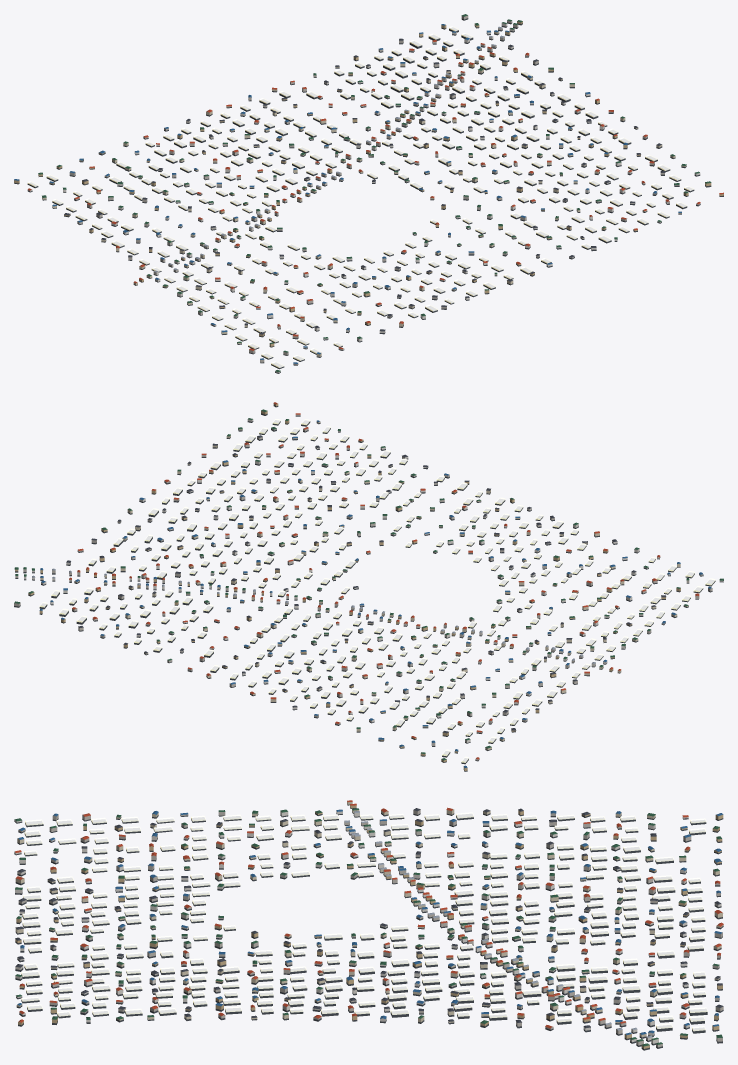
File: buildings_T_W02_N06.glb
3 renders of one model, top to bottom at view 1: azimuth 30°, elevation 25°; view 2: azimuth 150°, elevation 25°; view 3: azimuth 270°, elevation 25°, orthographic. The views are drawn at different scales.
Parts seen in each view (by area): view 1: T_W02_N06_slope_seating_foundations, T_W02_N06_roofs_agri_greenhouse_arch, T_W02_N06_walls_wall_dalat_cream_stucco, T_W02_N06_walls_wall_pastel_sand_gray, T_W02_N06_walls_wall_modern_warm_white, T_W02_N06_walls_wall_french_ochre_villa, T_W02_N06_roofs_roof_pine_green_hip, T_W02_N06_roofs_roof_terracotta_gable, T_W02_N06_roofs_roof_highland_blue_gable, T_W02_N06_roofs_roof_slate_French_villa_hip; view 2: T_W02_N06_slope_seating_foundations, T_W02_N06_roofs_agri_greenhouse_arch, T_W02_N06_walls_wall_dalat_cream_stucco, T_W02_N06_walls_wall_pastel_sand_gray, T_W02_N06_walls_wall_modern_warm_white, T_W02_N06_walls_wall_french_ochre_villa, T_W02_N06_roofs_roof_pine_green_hip, T_W02_N06_roofs_roof_terracotta_gable, T_W02_N06_roofs_roof_highland_blue_gable, T_W02_N06_roofs_roof_slate_French_villa_hip; view 3: T_W02_N06_slope_seating_foundations, T_W02_N06_roofs_agri_greenhouse_arch, T_W02_N06_walls_wall_pastel_sand_gray, T_W02_N06_walls_wall_dalat_cream_stucco, T_W02_N06_walls_wall_modern_warm_white, T_W02_N06_walls_wall_french_ochre_villa, T_W02_N06_roofs_roof_pine_green_hip, T_W02_N06_roofs_roof_terracotta_gable, T_W02_N06_roofs_roof_highland_blue_gable, T_W02_N06_roofs_roof_slate_French_villa_hip, T_W02_N06_roofs_roof_zinc_silver_gable.
Boxes of the visible parts, x1,y1,x2,y2 form: T_W02_N06_slope_seating_foundations: (14,18,723,373); T_W02_N06_roofs_agri_greenhouse_arch: (27,26,694,367); T_W02_N06_walls_wall_dalat_cream_stucco: (42,31,686,356); T_W02_N06_walls_wall_pastel_sand_gray: (69,15,679,364); T_W02_N06_walls_wall_modern_warm_white: (27,23,700,372); T_W02_N06_walls_wall_french_ochre_villa: (14,21,723,346); T_W02_N06_roofs_roof_pine_green_hip: (38,14,711,372); T_W02_N06_roofs_roof_terracotta_gable: (28,40,723,350); T_W02_N06_roofs_roof_highland_blue_gable: (14,24,681,363); T_W02_N06_roofs_roof_slate_French_villa_hip: (64,38,665,334); T_W02_N06_slope_seating_foundations: (14,405,723,771); T_W02_N06_roofs_agri_greenhouse_arch: (39,419,715,762); T_W02_N06_walls_wall_dalat_cream_stucco: (40,421,688,750); T_W02_N06_walls_wall_pastel_sand_gray: (14,428,712,745); T_W02_N06_walls_wall_modern_warm_white: (24,414,723,760); T_W02_N06_walls_wall_french_ochre_villa: (15,403,680,770); T_W02_N06_roofs_roof_pine_green_hip: (14,409,723,760); T_W02_N06_roofs_roof_terracotta_gable: (69,402,699,759); T_W02_N06_roofs_roof_highland_blue_gable: (39,420,711,768); T_W02_N06_roofs_roof_slate_French_villa_hip: (66,435,666,733); T_W02_N06_slope_seating_foundations: (14,804,723,1050); T_W02_N06_roofs_agri_greenhouse_arch: (21,812,707,1031); T_W02_N06_walls_wall_pastel_sand_gray: (18,810,723,1047); T_W02_N06_walls_wall_dalat_cream_stucco: (15,801,723,1037); T_W02_N06_walls_wall_modern_warm_white: (14,810,721,1043); T_W02_N06_walls_wall_french_ochre_villa: (15,804,723,1048); T_W02_N06_roofs_roof_pine_green_hip: (14,808,722,1046); T_W02_N06_roofs_roof_terracotta_gable: (15,800,723,1028); T_W02_N06_roofs_roof_highland_blue_gable: (17,809,723,1035); T_W02_N06_roofs_roof_slate_French_villa_hip: (15,808,723,1028); T_W02_N06_roofs_roof_zinc_silver_gable: (344,811,652,1038).
Bounding box in the file's own units: 1922 × 279 × 1753.
